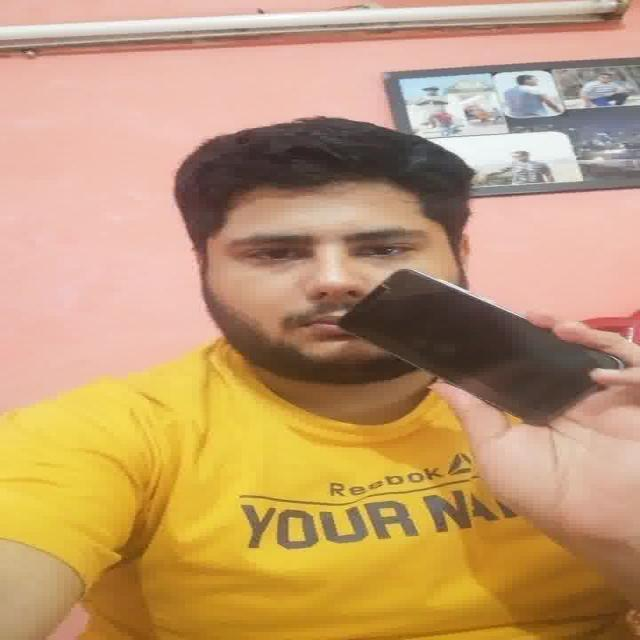Phone: (338, 263, 622, 432)
